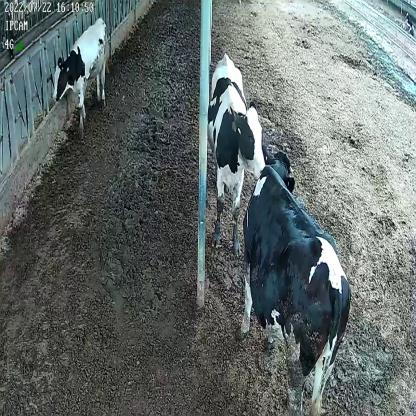cow: (239, 153, 352, 411), (207, 53, 265, 253), (50, 14, 108, 138)
